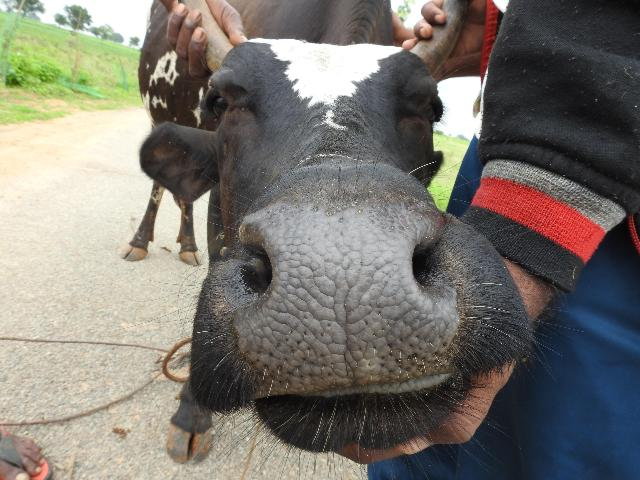Muzzle: (255, 218, 432, 376)
